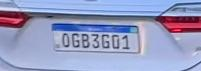Placa_mercosul_carro: (51, 23, 140, 54)
